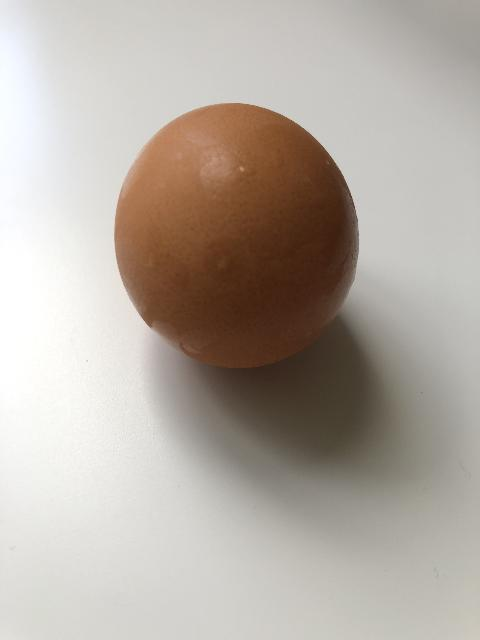Sano: (113, 101, 360, 370)
